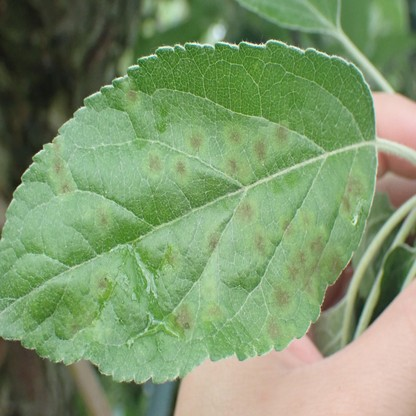scab: (307, 226, 348, 284), (281, 244, 317, 303), (337, 165, 367, 220), (50, 141, 71, 199), (263, 316, 296, 346), (220, 152, 250, 184), (269, 284, 296, 315), (170, 302, 194, 335), (66, 305, 94, 333), (247, 228, 270, 262), (184, 123, 206, 157), (250, 132, 269, 171), (269, 119, 291, 152), (90, 203, 113, 234), (221, 122, 246, 149), (142, 150, 163, 177), (235, 201, 257, 226), (202, 300, 225, 323), (162, 245, 181, 272), (202, 227, 223, 251), (170, 158, 189, 184), (91, 271, 109, 298), (298, 206, 315, 231), (280, 218, 297, 241), (124, 90, 141, 109), (201, 277, 216, 298)
